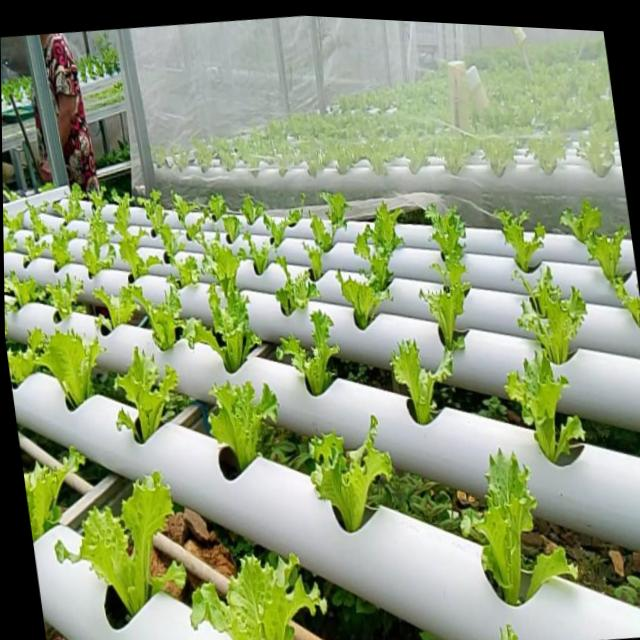Baby: (53, 469, 184, 612), (189, 553, 325, 640), (462, 448, 536, 605), (308, 415, 393, 532), (504, 350, 584, 463), (420, 205, 470, 359), (341, 200, 402, 325), (207, 381, 278, 480), (518, 267, 586, 364), (113, 347, 177, 443), (36, 326, 104, 407), (276, 311, 338, 396), (121, 281, 194, 351), (391, 340, 451, 425), (243, 196, 304, 272), (354, 203, 402, 291), (302, 191, 349, 280), (260, 257, 319, 317), (583, 227, 630, 299), (335, 272, 391, 330), (494, 209, 544, 273), (82, 192, 115, 278), (202, 235, 245, 298), (52, 184, 84, 222), (49, 225, 75, 268), (27, 204, 48, 241), (175, 255, 199, 287), (181, 213, 204, 244), (222, 215, 241, 239)
